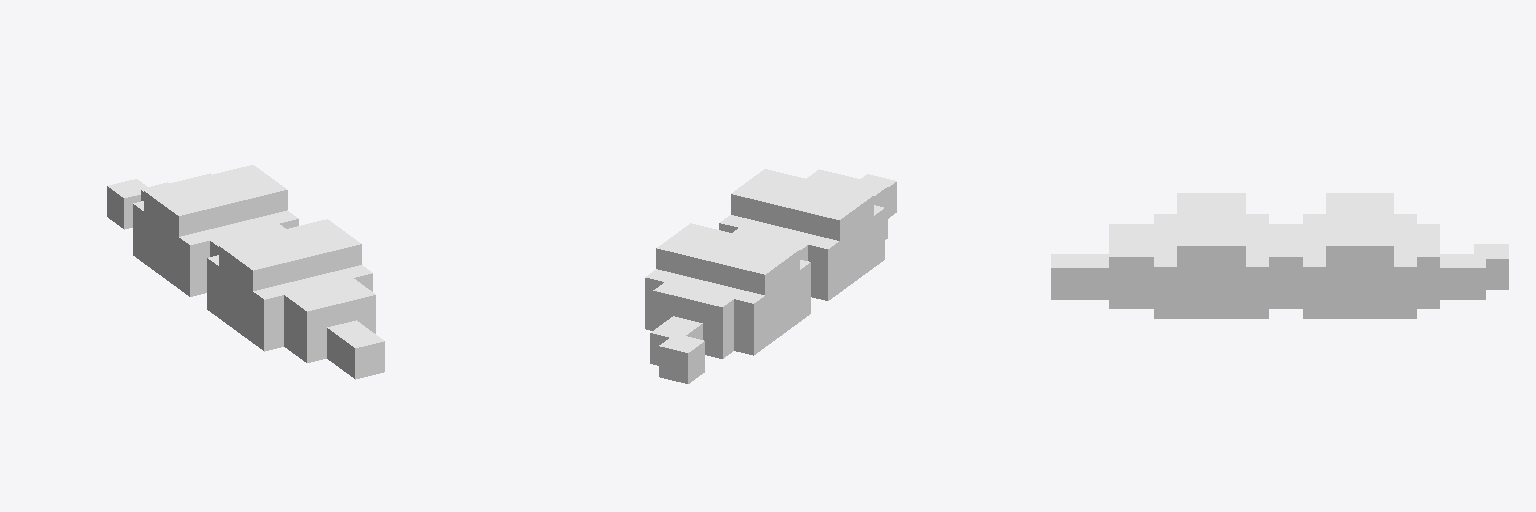
File: BigAcidRat.obj
3 views of the same model, side by side, from view 1: azimuth 30°, elevation 25°; view 2: azimuth 150°, elevation 25°; view 3: azimuth 270°, elevation 25° (orthographic).
Size of the model in its own units: 11 by 7 by 40.